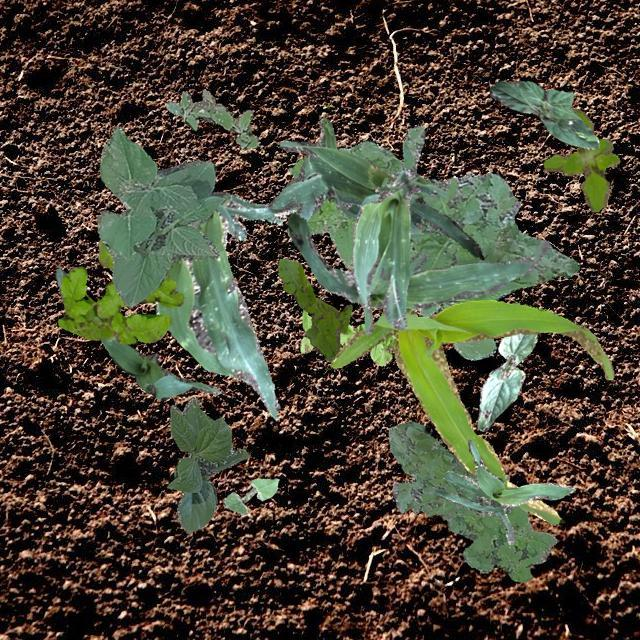crop: (330, 298, 612, 524), (154, 192, 296, 420), (266, 116, 482, 258), (286, 212, 548, 308), (96, 126, 224, 306), (54, 268, 220, 400), (350, 168, 446, 334), (432, 438, 574, 544), (165, 397, 248, 532), (488, 80, 598, 148), (477, 332, 538, 431), (436, 287, 514, 358), (223, 478, 277, 514)
weed: (287, 125, 578, 316), (388, 419, 556, 582), (56, 238, 182, 342), (542, 106, 618, 210), (276, 258, 352, 360), (165, 88, 258, 148), (300, 308, 394, 364)
